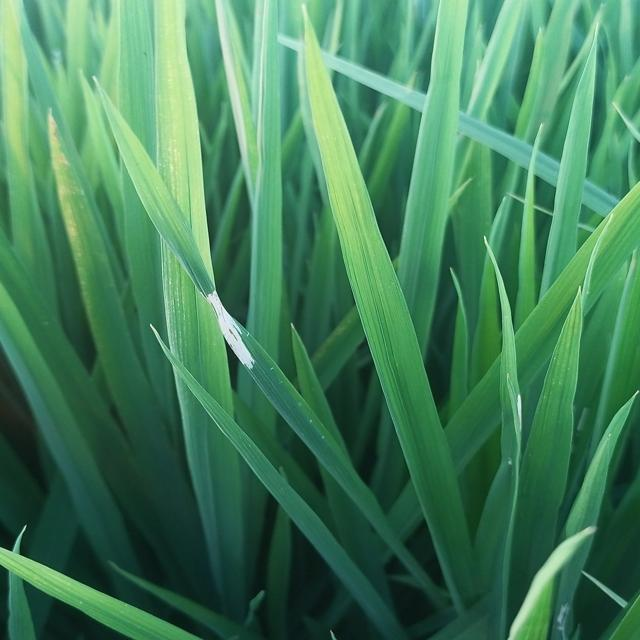Brown spot: (40, 106, 86, 251)
brown plant hopper: (196, 270, 264, 375)
